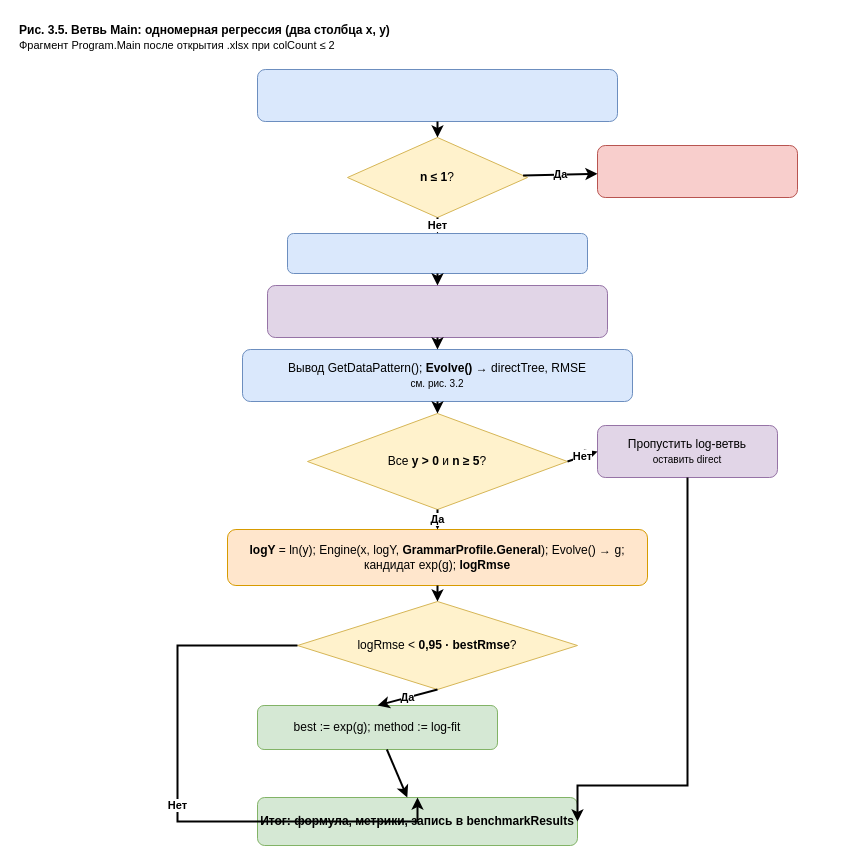
Image size: 854x863. Some labels were removed from this diagram. Here are the shapes that lost their labels. From the top down, the centre of each, then its label:
pixel 437 95: Чтение строк листа в списки x, y заголовок: обе ячейки не парсятся в double
pixel 697 171: Сообщение; continue
pixel 437 253: Вывод первых 10 пар (x,y) в протокол
pixel 437 311: new SymbolicRegressionEngine (xArr, yArr) см. рис. 3.3–3.4
